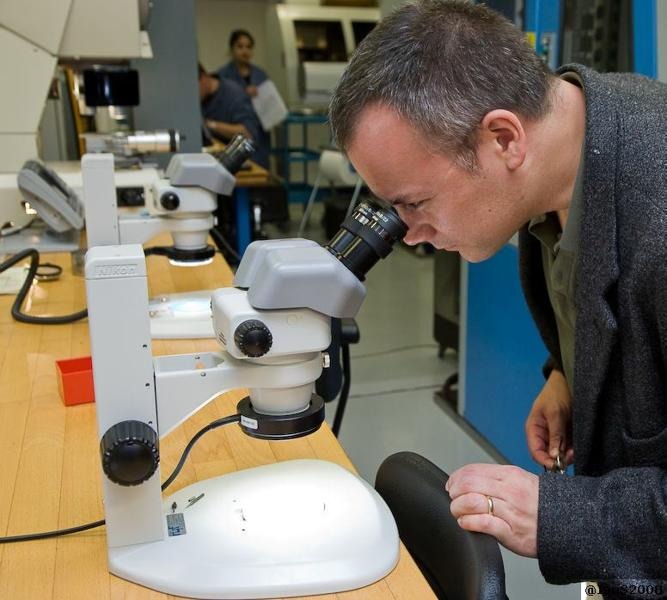person: (328, 3, 667, 600)
